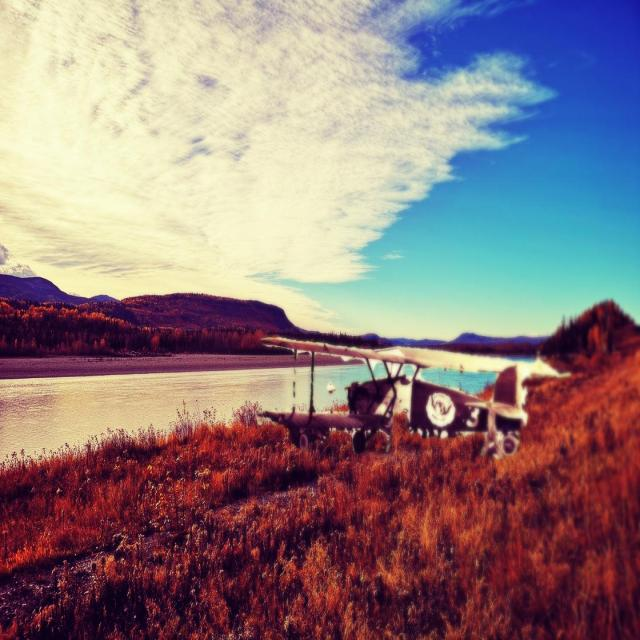airplane: (258, 329, 572, 459)
